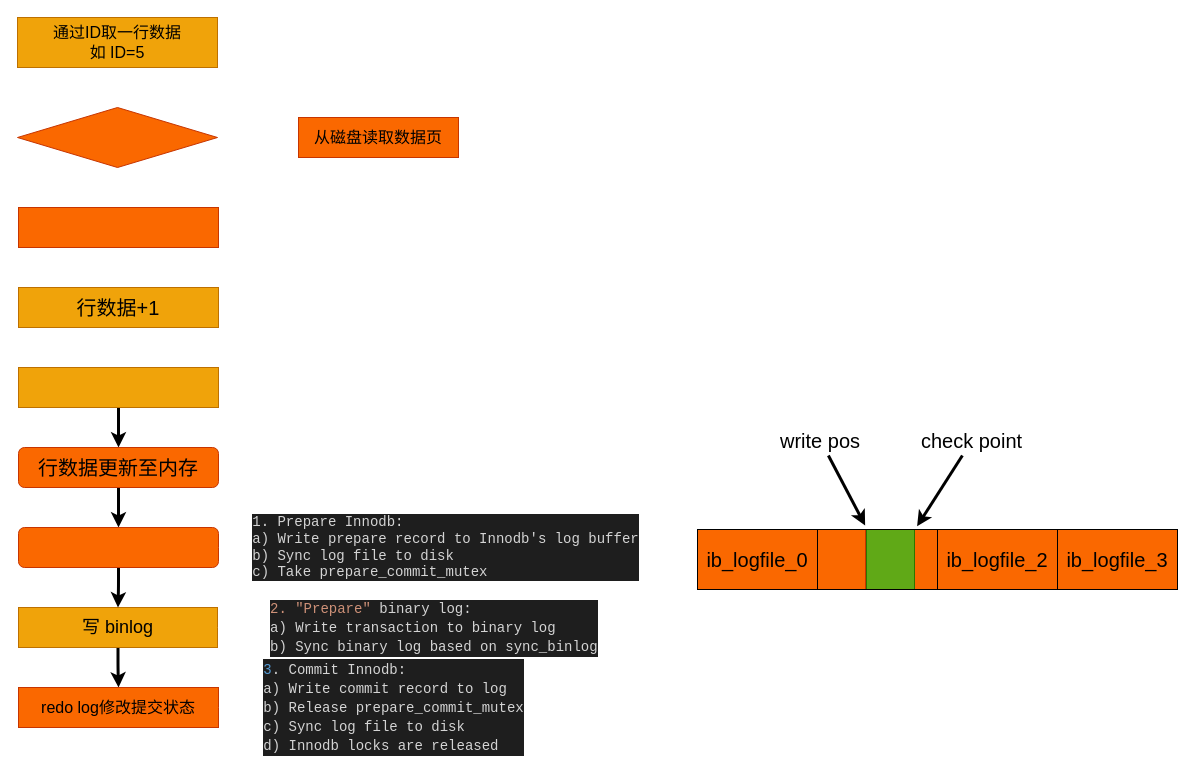
The diagram is 1195 pixels wide and 775 high, and some of its shapes have lost their labels. The box of each missing label's shape, as (x1, y1, x2, y2) in pixels:
ib_logfile_1: (816, 528, 938, 590)
写入redo log: (18, 526, 218, 568)
写入行数据: (18, 366, 218, 408)
数据页在内存中: (16, 106, 218, 168)
获取行数据: (18, 206, 218, 248)
